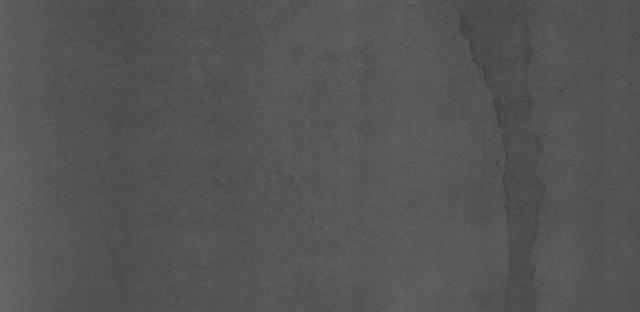water_spot: (458, 7, 556, 301)
